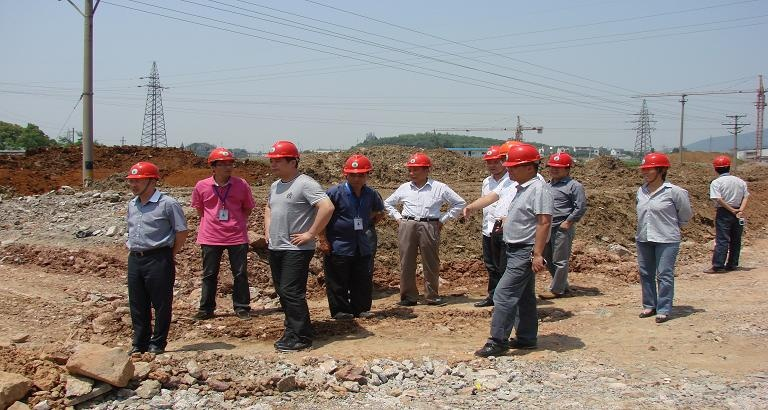red: (505, 142, 541, 184), (265, 140, 301, 178), (126, 158, 159, 198), (341, 151, 373, 189), (205, 144, 237, 181), (640, 152, 669, 188), (547, 149, 573, 181), (407, 150, 431, 184), (484, 144, 503, 176), (711, 153, 733, 177)
